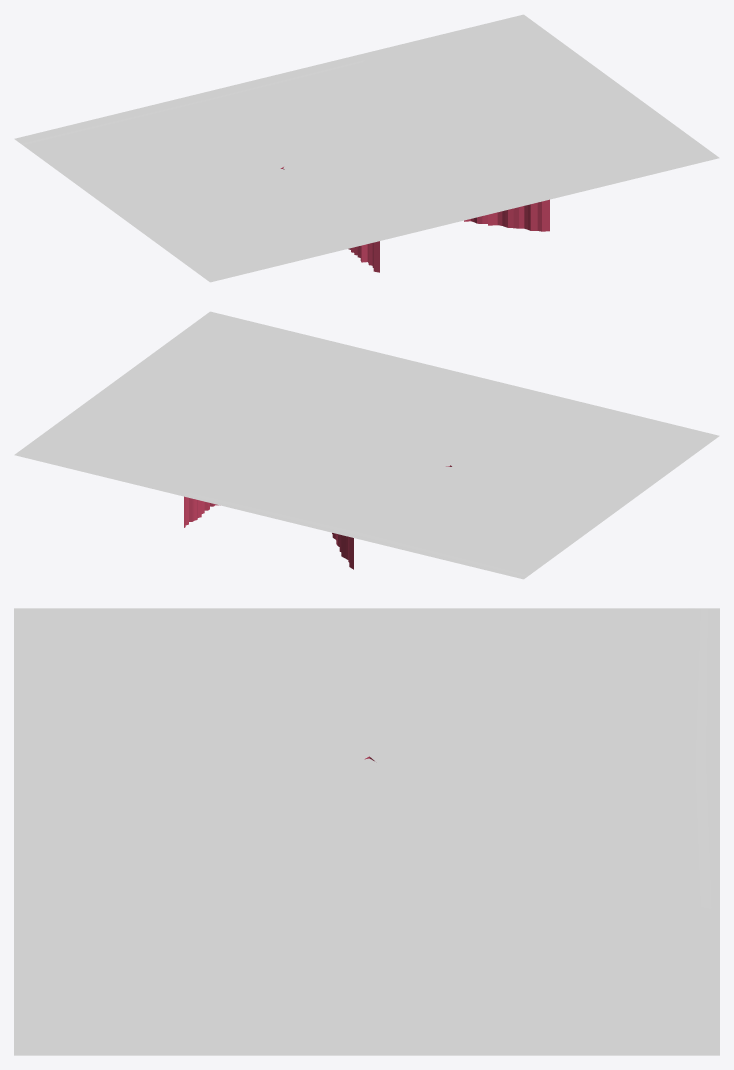
The model's file is ice5.fbx.
3 views of the same model, one above another, from view 1: azimuth 30°, elevation 25°; view 2: azimuth 150°, elevation 25°; view 3: azimuth 270°, elevation 25° (orthographic). The views are drawn at different scales.
Visible parts, largest first — view 1: Left.001, Right.001, Main.001; view 2: Left.001, Right.001, Main.001; view 3: Left.001, Right.001, Main.001.
Boxes of the visible parts, x1,y1,x2,y2 form: Left.001: (354, 14, 719, 231); Right.001: (14, 97, 379, 282); Main.001: (185, 56, 549, 272); Left.001: (14, 311, 415, 526); Right.001: (320, 394, 719, 579); Main.001: (184, 353, 550, 569); Left.001: (14, 833, 719, 1055); Right.001: (14, 608, 719, 829); Main.001: (14, 754, 719, 912).
Bounding box in the file's own units: 8400 × 501 × 5600.
